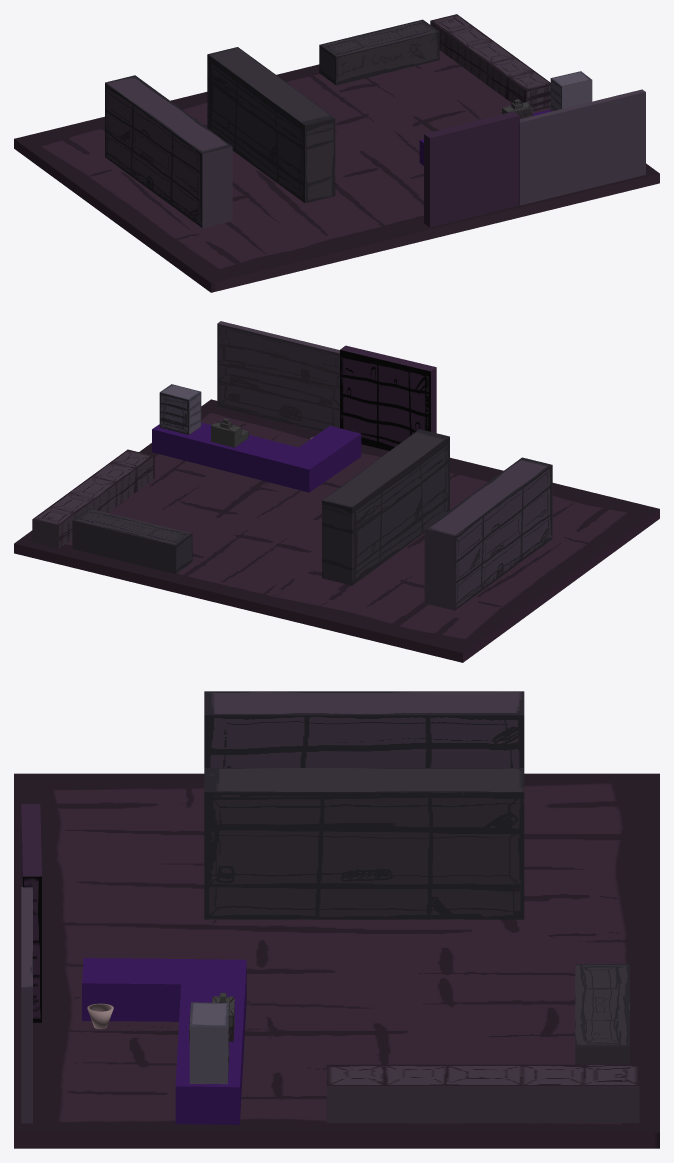
The model's file is inside.fbx.
3 renders of one model, top to bottom at view 1: azimuth 30°, elevation 25°; view 2: azimuth 150°, elevation 25°; view 3: azimuth 270°, elevation 25°, orthographic. The views are drawn at different scales.
Visible parts, largest first — view 1: Floor, Candy.001, Candy.002, Cube, Morecoolers, food/cats, mags, Candy,smokes.001; view 2: Floor, Candy.001, Candy.002, Cube, Morecoolers, Counter/register, food/cats, mags, Candy,smokes.001, Counter/register.001; view 3: Floor, Candy.001, Candy.002, mags, Counter/register, food/cats, Candy,smokes.001, Morecoolers, Cube.
Boxes of the visible parts, x1,y1,x2,y2 form: Floor: (14, 50, 659, 292); Candy.001: (207, 47, 335, 203); Candy.002: (105, 75, 232, 228); Cube: (519, 89, 645, 205); Morecoolers: (424, 111, 519, 227); food/cats: (319, 19, 439, 85); mags: (430, 14, 550, 111); Candy,smokes.001: (550, 71, 592, 111); Floor: (14, 399, 659, 662); Candy.001: (322, 429, 449, 585); Candy.002: (424, 457, 552, 610); Cube: (217, 321, 339, 431); Morecoolers: (340, 345, 436, 450); Counter/register: (152, 422, 361, 492); food/cats: (72, 508, 192, 573); mags: (32, 449, 154, 548); Candy,smokes.001: (159, 384, 201, 434); Counter/register.001: (211, 418, 248, 447); Floor: (14, 773, 659, 1148); Candy.001: (204, 768, 524, 919); Candy.002: (204, 691, 524, 767); mags: (326, 1064, 639, 1122); Counter/register: (82, 958, 246, 1124); food/cats: (575, 964, 629, 1064); Candy,smokes.001: (189, 1002, 229, 1084); Morecoolers: (21, 804, 41, 1022); Cube: (21, 886, 32, 1123).
Bounding box in the file's own units: 543 × 115 × 413.
